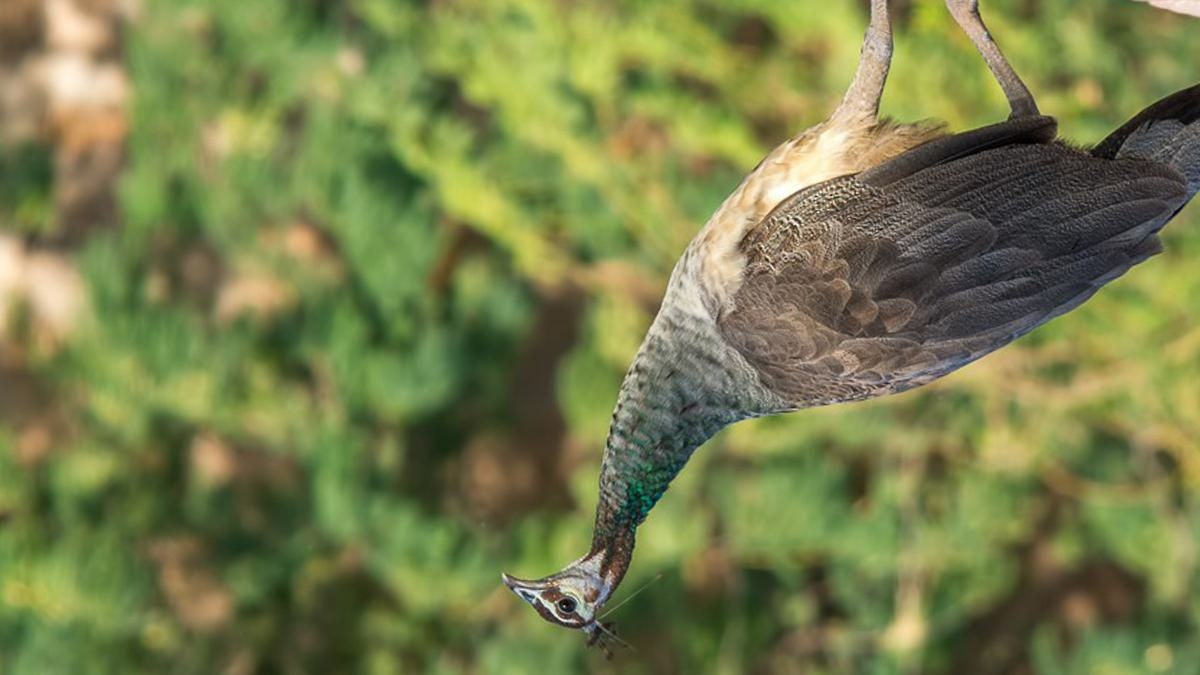peacock: (450, 20, 1158, 654)
